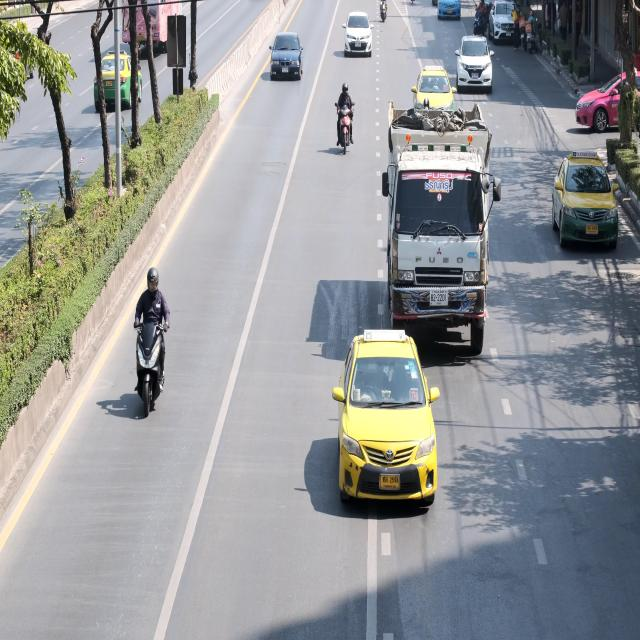bus: (111, 1, 197, 77)
cars: (381, 95, 506, 381), (331, 319, 454, 540), (550, 145, 626, 268), (570, 56, 640, 137), (88, 46, 156, 118), (453, 34, 500, 96), (413, 64, 459, 124), (268, 26, 303, 98), (340, 6, 378, 61), (486, 0, 520, 47), (438, 0, 467, 34)
motorcycle: (121, 249, 182, 440), (334, 72, 358, 164), (521, 11, 547, 51), (516, 7, 536, 40), (380, 0, 396, 33)
